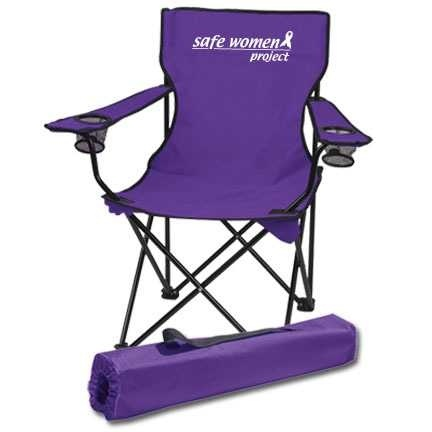obstacle: (45, 8, 370, 419)
